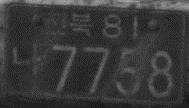1: (130, 14, 141, 42)
5: (115, 47, 142, 95)
7: (82, 44, 110, 96), (51, 42, 78, 93)
8: (146, 48, 173, 97), (102, 13, 123, 40)
나: (12, 42, 42, 77)
전북_O: (45, 11, 93, 38)
